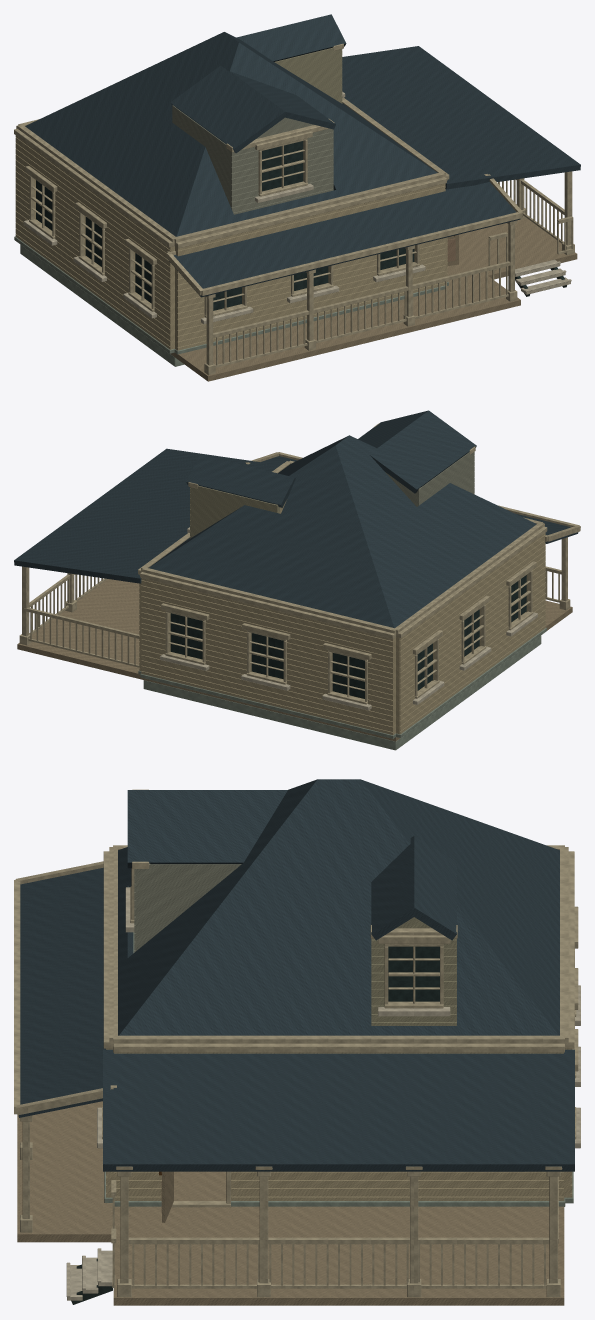
3 renders of one model, top to bottom at view 1: azimuth 30°, elevation 25°; view 2: azimuth 150°, elevation 25°; view 3: azimuth 270°, elevation 25°, orthographic. The views are drawn at different scales.
Visible parts, largest first — view 1: A011-02_11_Roof_Hip_And_Two_Cut_Dormers, A011-02_02_Clapboard, A011-02_11_Roof_Right_Deep_Porch, A011-02_07_Floors, A011-02_11_Roof_Front_Porch, A011-02_04_Architectural_Trim, A011-02_09_Railings, A011-02_12_Roof_Edges, A011-02_03_Window_Door_Frames, A011-02_06_Glazing, A011-02_10_Porch_Supports, A011-02_14_Dormer_Cheeks (+3 smaller); view 2: A011-02_11_Roof_Hip_And_Two_Cut_Dormers, A011-02_02_Clapboard, A011-02_11_Roof_Right_Deep_Porch, A011-02_04_Architectural_Trim, A011-02_07_Floors, A011-02_03_Window_Door_Frames, A011-02_06_Glazing, A011-02_12_Roof_Edges, A011-02_00_Foundation, A011-02_09_Railings, A011-02_14_Dormer_Cheeks, A011-02_01_Wall_Shell (+2 smaller); view 3: A011-02_11_Roof_Hip_And_Two_Cut_Dormers, A011-02_11_Roof_Right_Deep_Porch, A011-02_07_Floors, A011-02_11_Roof_Front_Porch, A011-02_02_Clapboard, A011-02_04_Architectural_Trim, A011-02_12_Roof_Edges, A011-02_09_Railings, A011-02_10_Porch_Supports, A011-02_14_Dormer_Cheeks, A011-02_03_Window_Door_Frames, A011-02_06_Glazing (+2 smaller).
Boxes of the visible parts, x1,y1,x2,y2 form: A011-02_11_Roof_Hip_And_Two_Cut_Dormers: (25, 14, 437, 236); A011-02_02_Clapboard: (15, 49, 447, 350); A011-02_11_Roof_Right_Deep_Porch: (342, 46, 580, 189); A011-02_07_Floors: (170, 218, 577, 381); A011-02_11_Roof_Front_Porch: (169, 182, 520, 297); A011-02_04_Architectural_Trim: (14, 43, 449, 354); A011-02_09_Railings: (213, 179, 573, 367); A011-02_12_Roof_Edges: (17, 97, 523, 295); A011-02_03_Window_Door_Frames: (29, 138, 419, 317); A011-02_06_Glazing: (36, 141, 414, 310); A011-02_10_Porch_Supports: (204, 171, 574, 375); A011-02_14_Dormer_Cheeks: (172, 47, 338, 199); A011-02_11_Roof_Hip_And_Two_Cut_Dormers: (148, 410, 536, 628); A011-02_02_Clapboard: (139, 452, 545, 734); A011-02_11_Roof_Right_Deep_Porch: (14, 448, 280, 583); A011-02_04_Architectural_Trim: (138, 423, 547, 738); A011-02_07_Floors: (17, 579, 572, 741); A011-02_03_Window_Door_Frames: (165, 570, 533, 704); A011-02_06_Glazing: (170, 575, 526, 698); A011-02_12_Roof_Edges: (141, 452, 580, 636); A011-02_00_Foundation: (143, 635, 541, 750); A011-02_09_Railings: (23, 566, 561, 667); A011-02_14_Dormer_Cheeks: (194, 452, 471, 534); A011-02_01_Wall_Shell: (140, 451, 527, 734); A011-02_11_Roof_Hip_And_Two_Cut_Dormers: (118, 779, 559, 1035); A011-02_11_Roof_Right_Deep_Porch: (103, 1049, 574, 1171); A011-02_07_Floors: (17, 1101, 564, 1305); A011-02_11_Roof_Front_Porch: (18, 867, 105, 1117); A011-02_02_Clapboard: (106, 869, 572, 1200); A011-02_04_Architectural_Trim: (97, 789, 580, 1206); A011-02_12_Roof_Edges: (14, 845, 568, 1115); A011-02_09_Railings: (111, 1176, 558, 1288); A011-02_10_Porch_Supports: (20, 1115, 562, 1297); A011-02_14_Dormer_Cheeks: (140, 864, 241, 944); A011-02_03_Window_Door_Frames: (102, 868, 576, 1207); A011-02_06_Glazing: (388, 946, 439, 1001).
Bounding box in the file's own units: 12.91 × 7.26 × 10.57.
12 materials, 12 textured.
